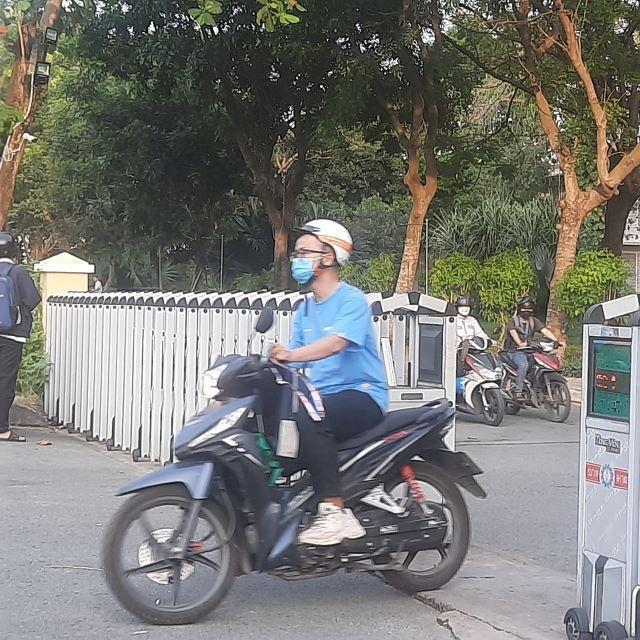Helmet: (288, 215, 350, 291)
